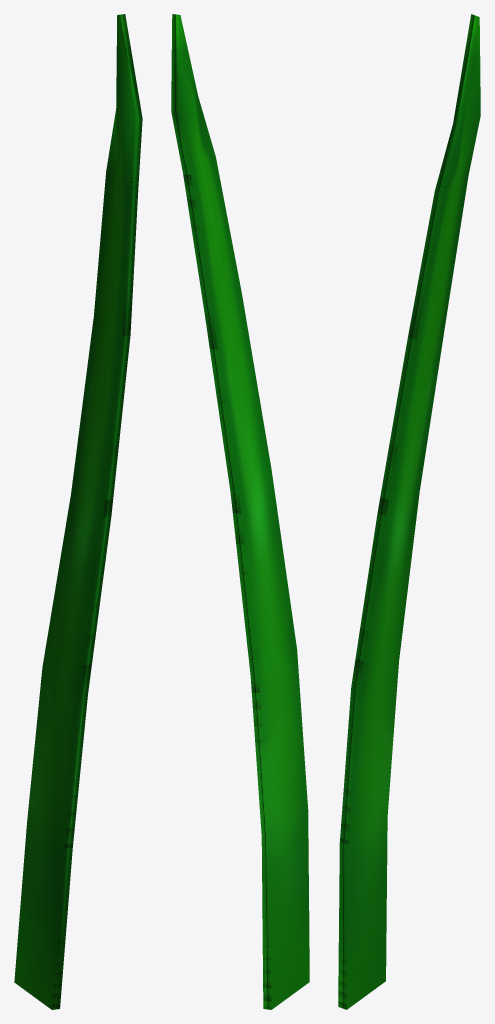
The model's file is grass.fbx.
The picture shows the model from 3 angles, left to right: view 1: azimuth 30°, elevation 25°; view 2: azimuth 150°, elevation 25°; view 3: azimuth 330°, elevation 25°; orthographic projection. The views are drawn at different scales.
Visible parts, largest first — view 1: grass; view 2: grass; view 3: grass.
Part boxes in pixels (left/top/right/bottom): grass: left=14, top=14, right=142, bottom=1009; grass: left=171, top=14, right=309, bottom=1009; grass: left=338, top=14, right=480, bottom=1009.
Size of the model in its own units: 287 by 2499 by 216.
